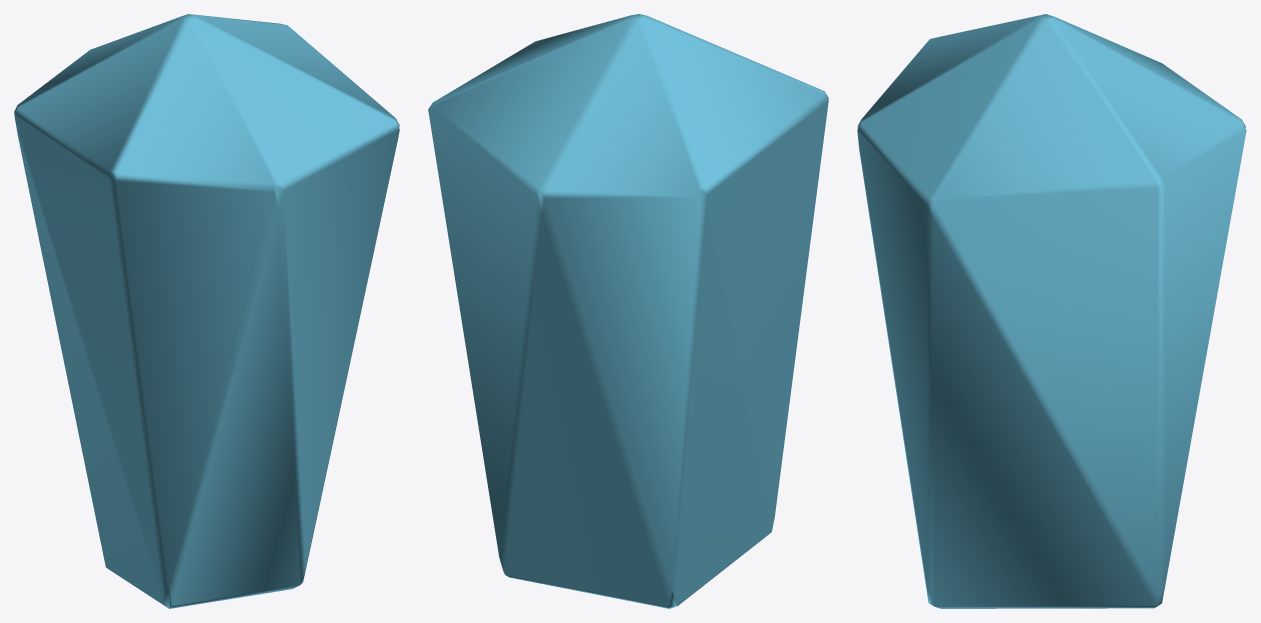
File: SapphireGem.fbx
3 renders of one model, left to right at view 1: azimuth 30°, elevation 25°; view 2: azimuth 150°, elevation 25°; view 3: azimuth 270°, elevation 25°, orthographic. The views are drawn at different scales.
Parts seen in each view (by area): view 1: SapphireGem1; view 2: SapphireGem1; view 3: SapphireGem1.
Part boxes in pixels (x1,y1,x2,y2): SapphireGem1: (14, 14, 399, 608); SapphireGem1: (428, 14, 828, 608); SapphireGem1: (857, 14, 1246, 608).
Size of the model in its own units: 72.88 by 133 by 81.43.
